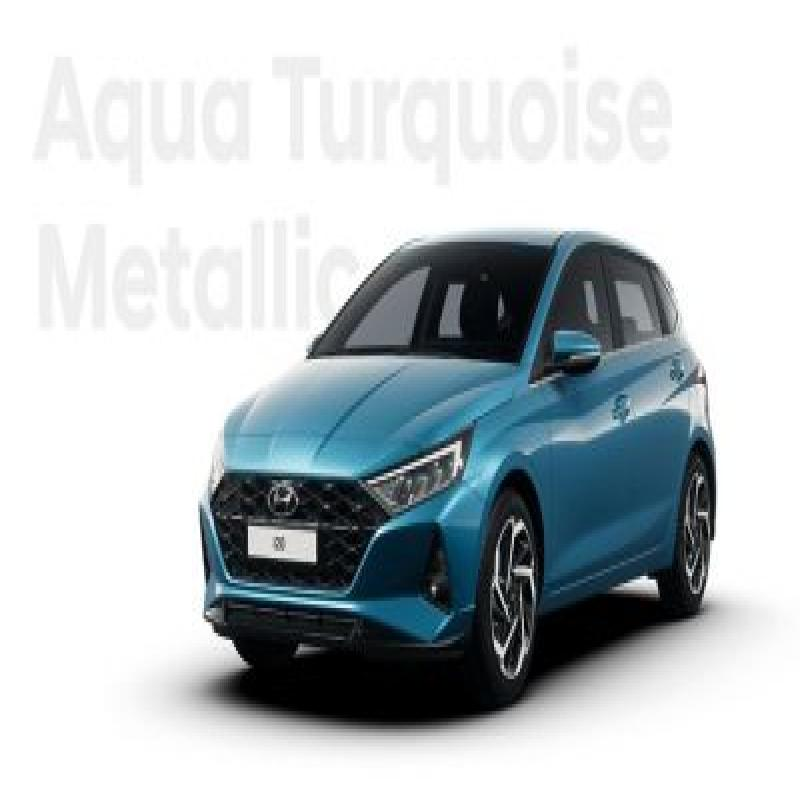car: (156, 178, 718, 675)
